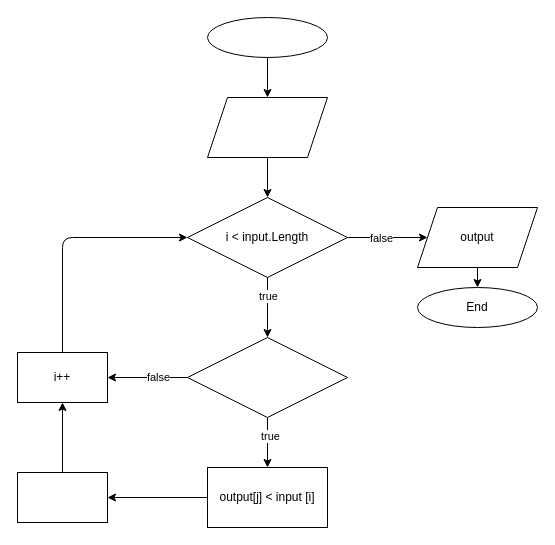
Image size: 555x545. Some labels were removed from this diagram. The centre of each missing label's shape, as x and y in pixels:
"input[i].Length < n" goes at point 267,377.
"j++" goes at point 62,497.
"Start" goes at point 267,37.
